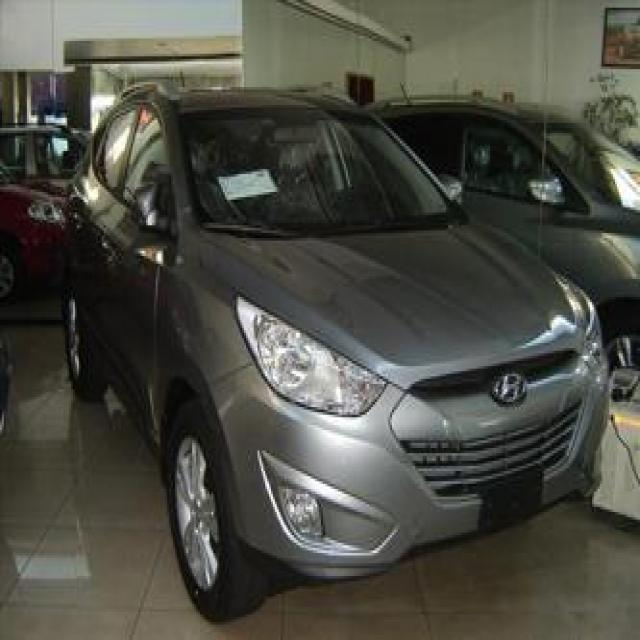Car: (69, 57, 640, 628)
